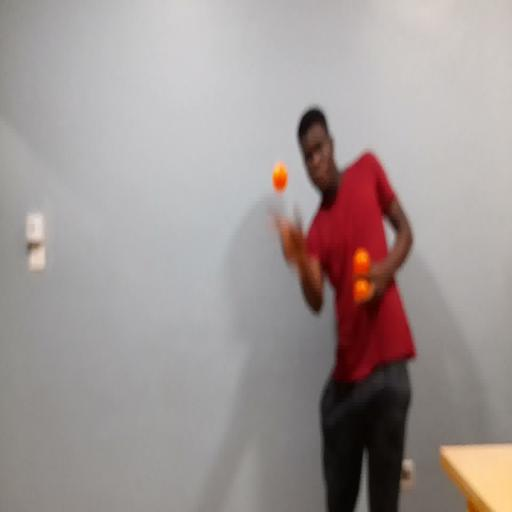plastic-ball: (269, 162, 290, 194)
